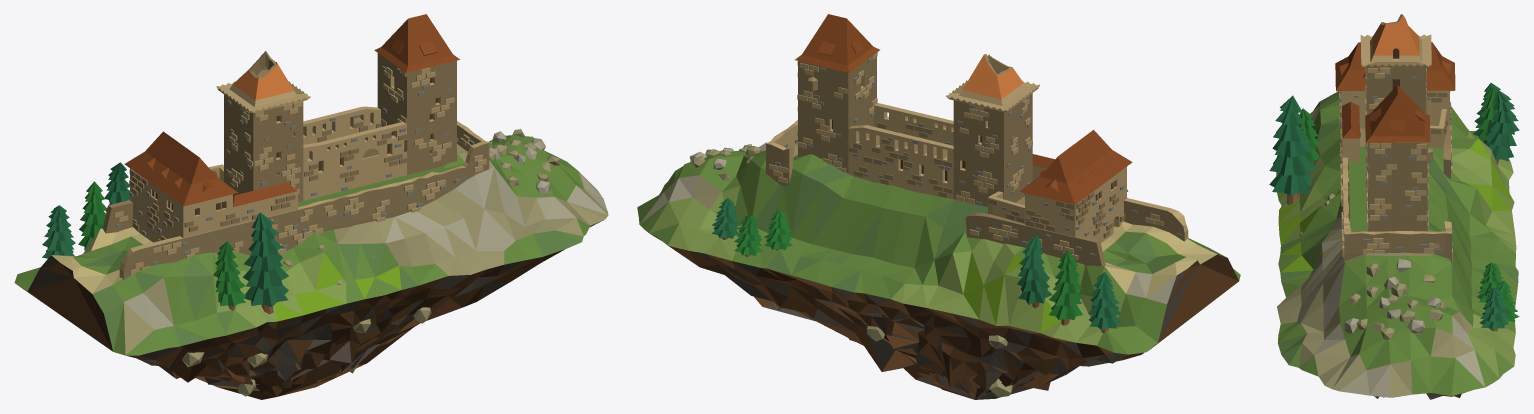
File: kasperk.glb
3 views of the same model, side by side, from view 1: azimuth 30°, elevation 25°; view 2: azimuth 150°, elevation 25°; view 3: azimuth 270°, elevation 25° (orthographic). The views are drawn at different scales.
Visible parts, largest first — view 1: Plane.012, Cube.008, Plane.010, Plane.011, Cylinder.104, Cube.009, Cylinder.107, Cylinder.101, Cylinder.102, Plane.014, Cylinder.103, Cube.010; view 2: Plane.012, Cube.008, Plane.011, Cube.010, Plane.010, Cylinder.102, Cylinder.103, Cylinder.101, Cylinder.106, Cylinder.108, Cylinder.105, Cube.011; view 3: Plane.012, Cube.008, Plane.011, Cylinder.104, Plane.010, Cylinder.103, Plane.014, Cube.009, Cylinder.108, Cylinder.102, Cylinder.107, Cylinder.105 (+3 smaller).
Boxes of the visible parts, x1=… form: Plane.012: x1=14, y1=135, x2=608, y2=399; Cube.008: x1=216, y1=14, x2=459, y2=201; Plane.010: x1=119, y1=121, x2=489, y2=279; Plane.011: x1=124, y1=131, x2=238, y2=242; Cylinder.104: x1=243, y1=212, x2=288, y2=314; Cube.009: x1=233, y1=182, x2=297, y2=225; Cylinder.107: x1=213, y1=241, x2=245, y2=310; Cylinder.101: x1=42, y1=205, x2=75, y2=258; Cylinder.102: x1=78, y1=181, x2=107, y2=250; Plane.014: x1=298, y1=164, x2=463, y2=206; Cylinder.103: x1=104, y1=162, x2=129, y2=211; Cube.010: x1=102, y1=200, x2=132, y2=233; Plane.012: x1=637, y1=144, x2=1240, y2=399; Cube.008: x1=795, y1=14, x2=1039, y2=206; Plane.011: x1=1019, y1=129, x2=1132, y2=242; Cube.010: x1=965, y1=213, x2=1105, y2=265; Plane.010: x1=766, y1=120, x2=1188, y2=241; Cylinder.102: x1=1048, y1=250, x2=1082, y2=325; Cylinder.103: x1=1017, y1=234, x2=1052, y2=308; Cylinder.101: x1=1088, y1=272, x2=1122, y2=332; Cylinder.106: x1=734, y1=215, x2=762, y2=256; Cylinder.108: x1=711, y1=198, x2=739, y2=239; Cylinder.105: x1=764, y1=209, x2=792, y2=250; Cube.011: x1=988, y1=191, x2=1024, y2=223; Plane.012: x1=1276, y1=91, x2=1518, y2=399; Cube.008: x1=1360, y1=14, x2=1432, y2=231; Plane.011: x1=1335, y1=42, x2=1455, y2=128; Cylinder.104: x1=1269, y1=95, x2=1316, y2=204; Plane.010: x1=1340, y1=103, x2=1451, y2=263; Cylinder.103: x1=1483, y1=89, x2=1519, y2=164; Plane.014: x1=1348, y1=146, x2=1366, y2=232; Cube.009: x1=1342, y1=102, x2=1359, y2=161; Cylinder.108: x1=1479, y1=287, x2=1508, y2=331; Cylinder.102: x1=1478, y1=86, x2=1511, y2=151; Cylinder.107: x1=1298, y1=108, x2=1320, y2=174; Cylinder.105: x1=1477, y1=262, x2=1503, y2=302.
Size of the model in its own units: 21.24 by 13.28 by 8.44.
